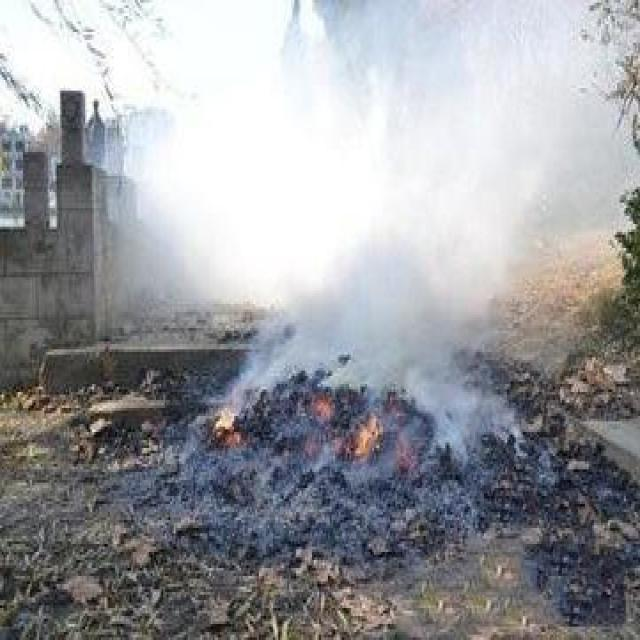fire: (193, 336, 451, 491)
smoke: (150, 79, 506, 384)
